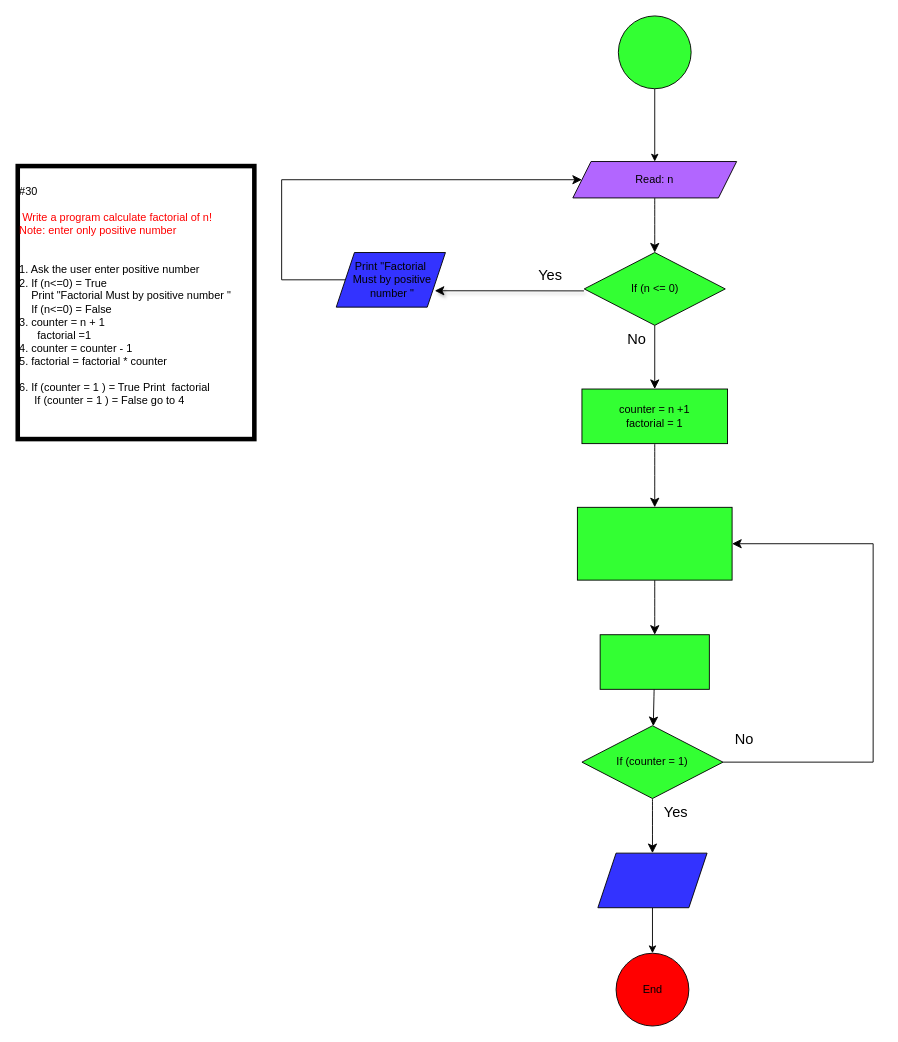
The diagram is 898 pixels wide and 1042 high, and some of its shapes have lost their labels. The shapes that lost their labels are listed below. From the top down, each one's centre as x and y in pixels, then its label:
pixel 654 52: Start
pixel 654 543: counter = counter - 1
pixel 654 661: factorial = factorial * counter
pixel 652 880: Print: factorial
